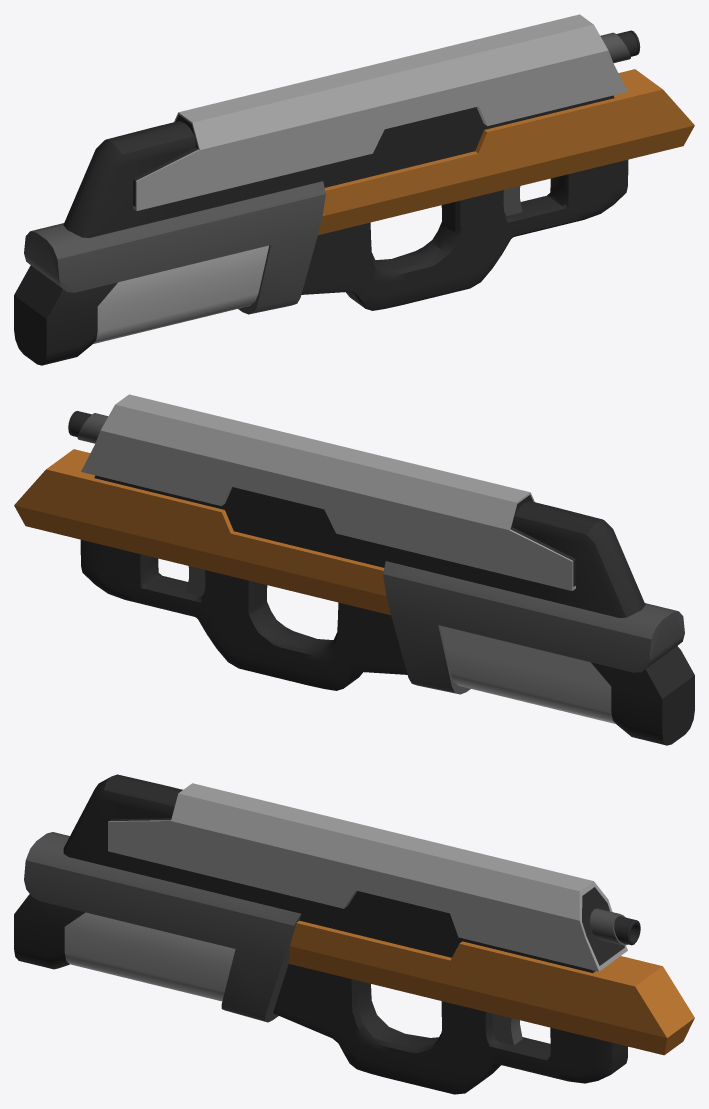
3 views of the same model, one above another, from view 1: azimuth 30°, elevation 25°; view 2: azimuth 150°, elevation 25°; view 3: azimuth 330°, elevation 25° (orthographic).
Parts seen in each view (by area): view 1: AR_5; view 2: AR_5; view 3: AR_5.
Boxes of the visible parts, x1,y1,x2,y2 form: AR_5: (14, 14, 694, 365); AR_5: (14, 394, 694, 745); AR_5: (14, 774, 694, 1094).
Size of the model in its own units: 1.57 by 0.5378 by 0.1478.
